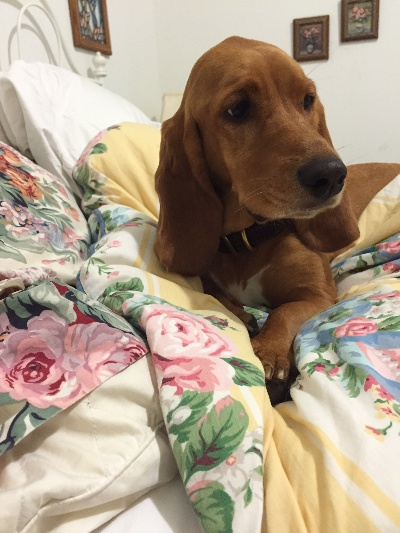daisy: (140, 25, 371, 276)
